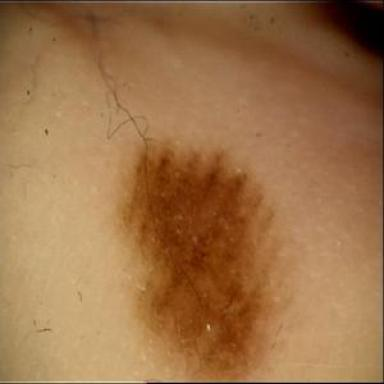Melanoma: (127, 145, 290, 378)
